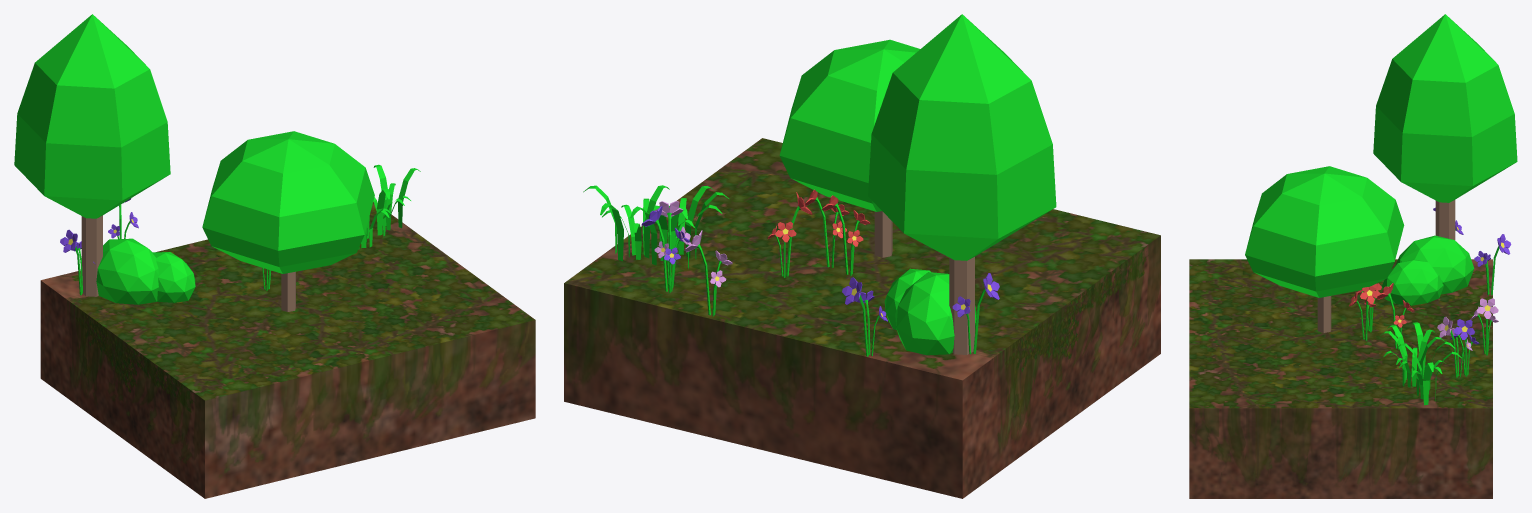
The picture shows the model from 3 angles, left to right: view 1: azimuth 30°, elevation 25°; view 2: azimuth 150°, elevation 25°; view 3: azimuth 270°, elevation 25°; orthographic projection. The views are drawn at different scales.
Parts seen in each view (by area): view 1: base_under; view 2: base_under; view 3: base_under.
Part boxes in pixels (left/top/right/bottom): base_under: left=14, top=14, right=535, bottom=498; base_under: left=564, top=14, right=1160, bottom=498; base_under: left=1189, top=14, right=1517, bottom=498.
Bounding box in the file's own units: 4.44 × 4.16 × 3.55.
